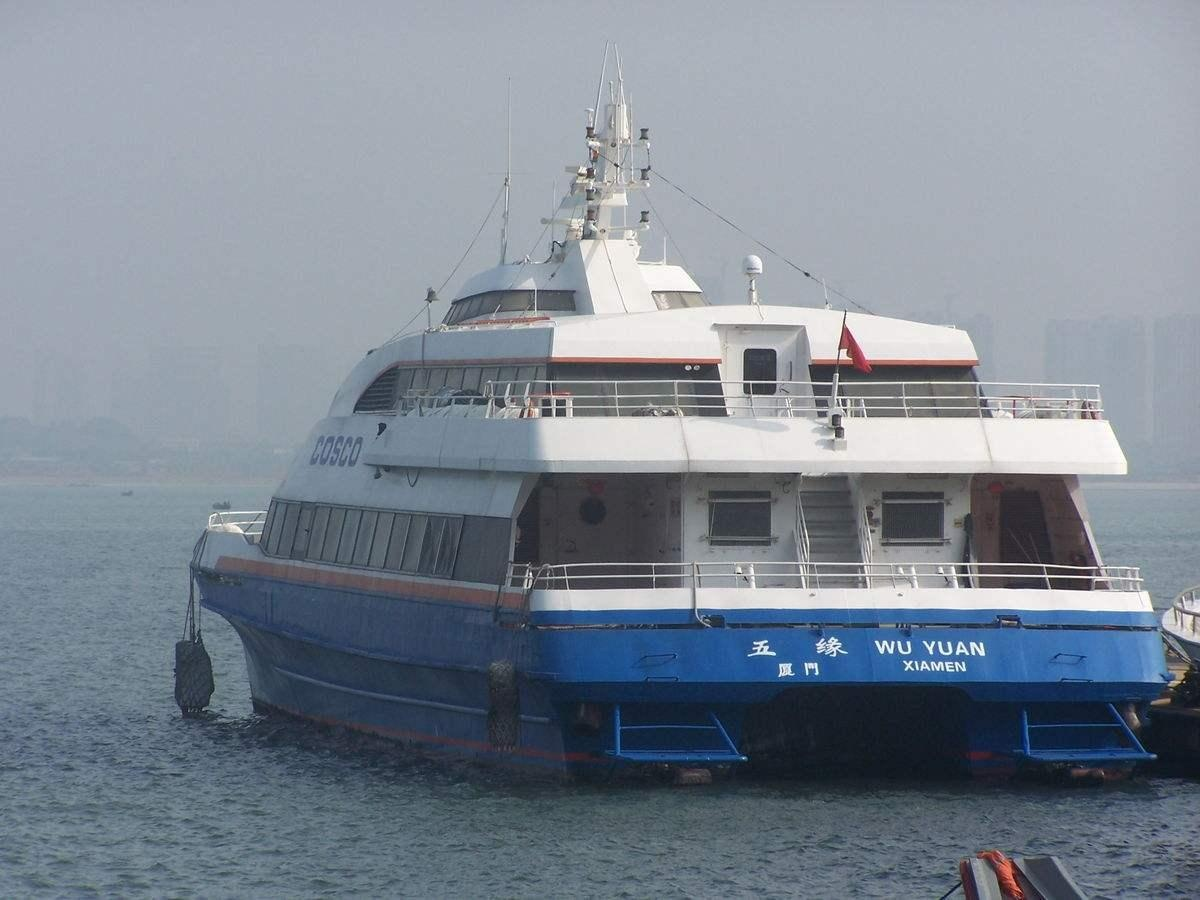yacht: (173, 67, 1151, 787)
